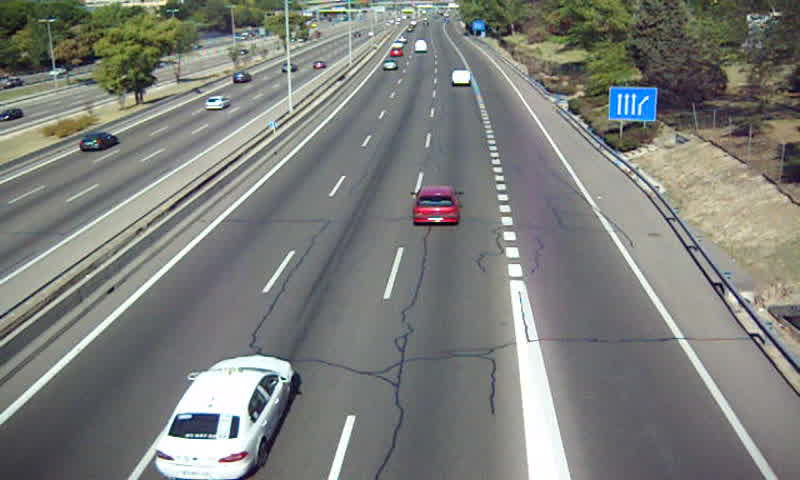car: (156, 354, 293, 480), (413, 186, 459, 225), (382, 58, 398, 70)
van: (451, 69, 472, 87)
